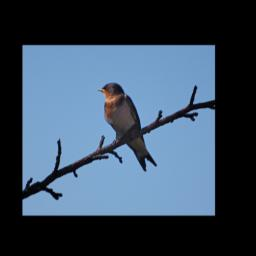Swallow: (98, 82, 157, 172)
